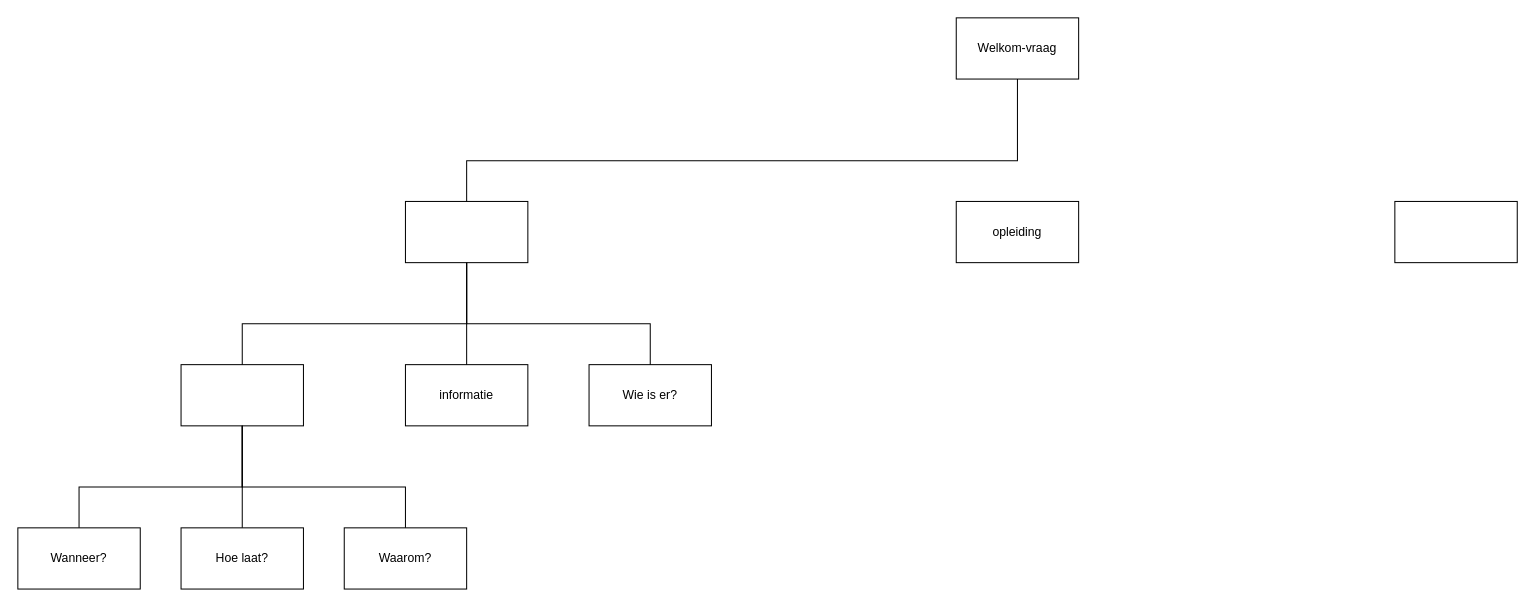
This 1535x607 diagram has some shape labels left out. The centre of each missing label's shape, as x and y in pixels:
"datum" belongs at pixel 241 395.
"opendag" belongs at pixel 466 231.
